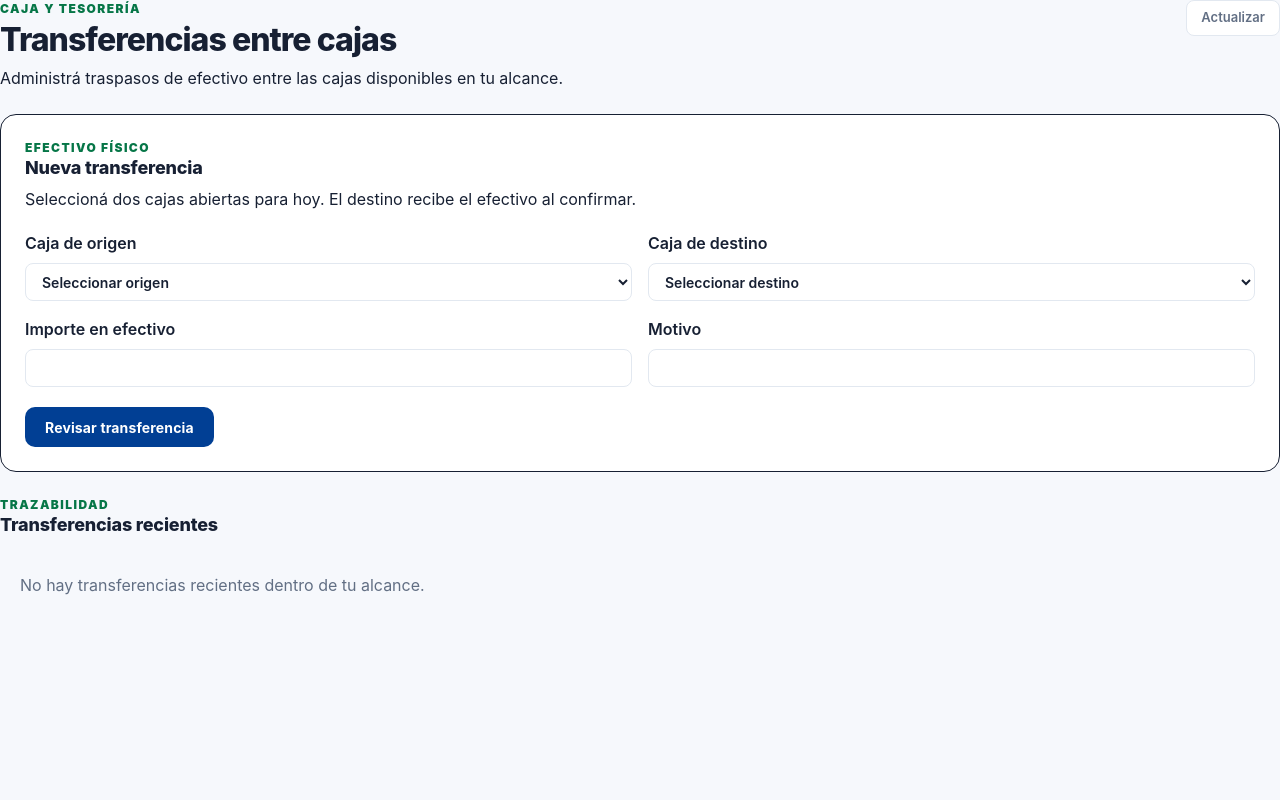
it: Estados y recuperación de transferencias › muestra el rechazo de API y conserva datos para corregirlos
Select "Posadas · cajera.posadas · Caja #11" in the dropdown with id "transferencia-origen" at (328, 282), box [25,263,632,301]
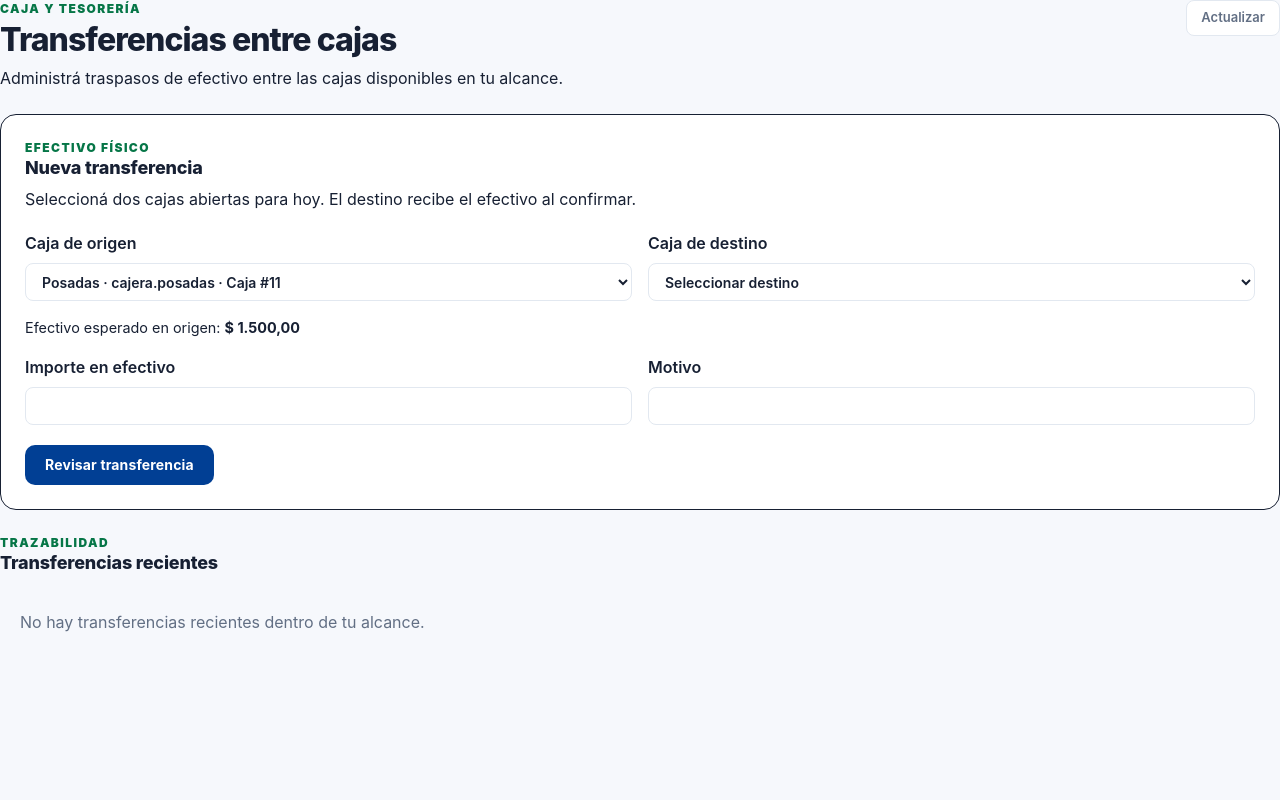
Select "Eldorado · cajero.eldorado · Caja #12" in the dropdown with id "transferencia-destino" at (952, 282), box [648,263,1255,301]
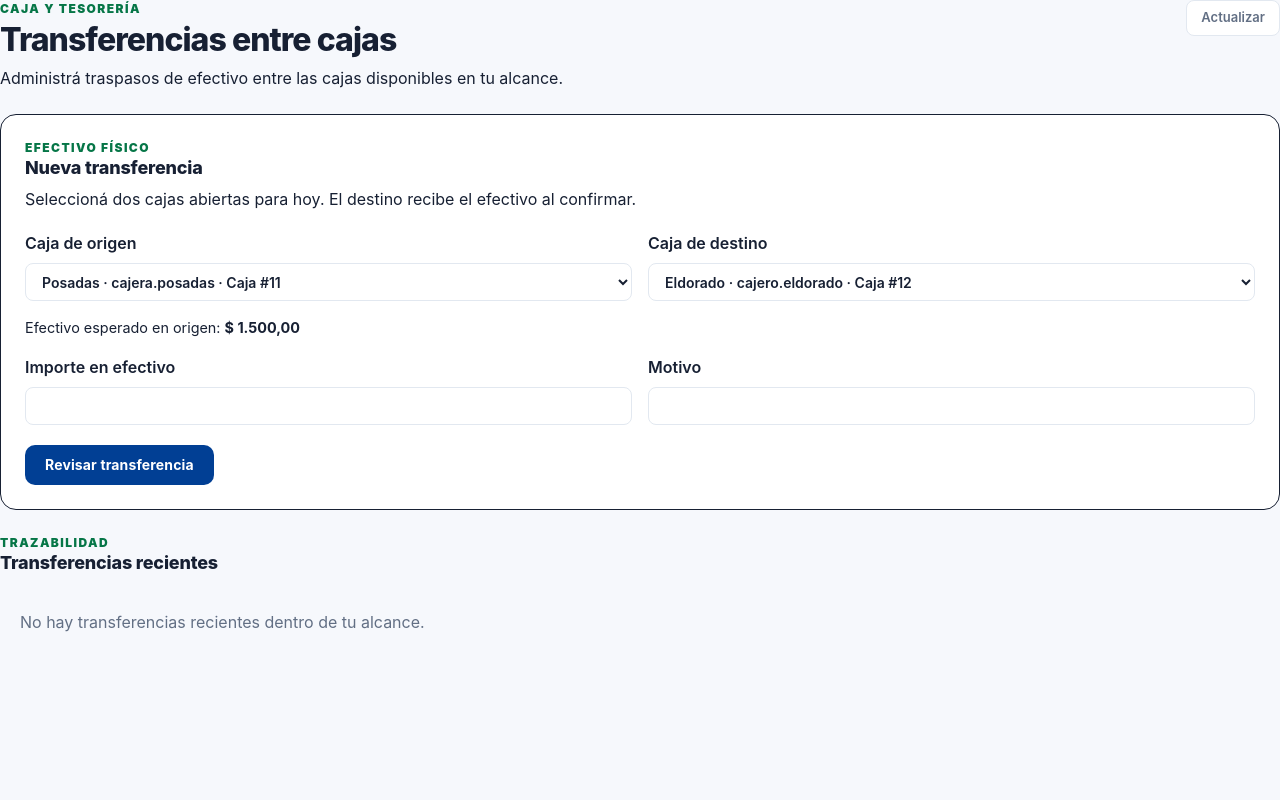
Type "250.50" into the number field with id "transferencia-importe".
click(328, 406); type("250.50")  # box [25,387,632,425]
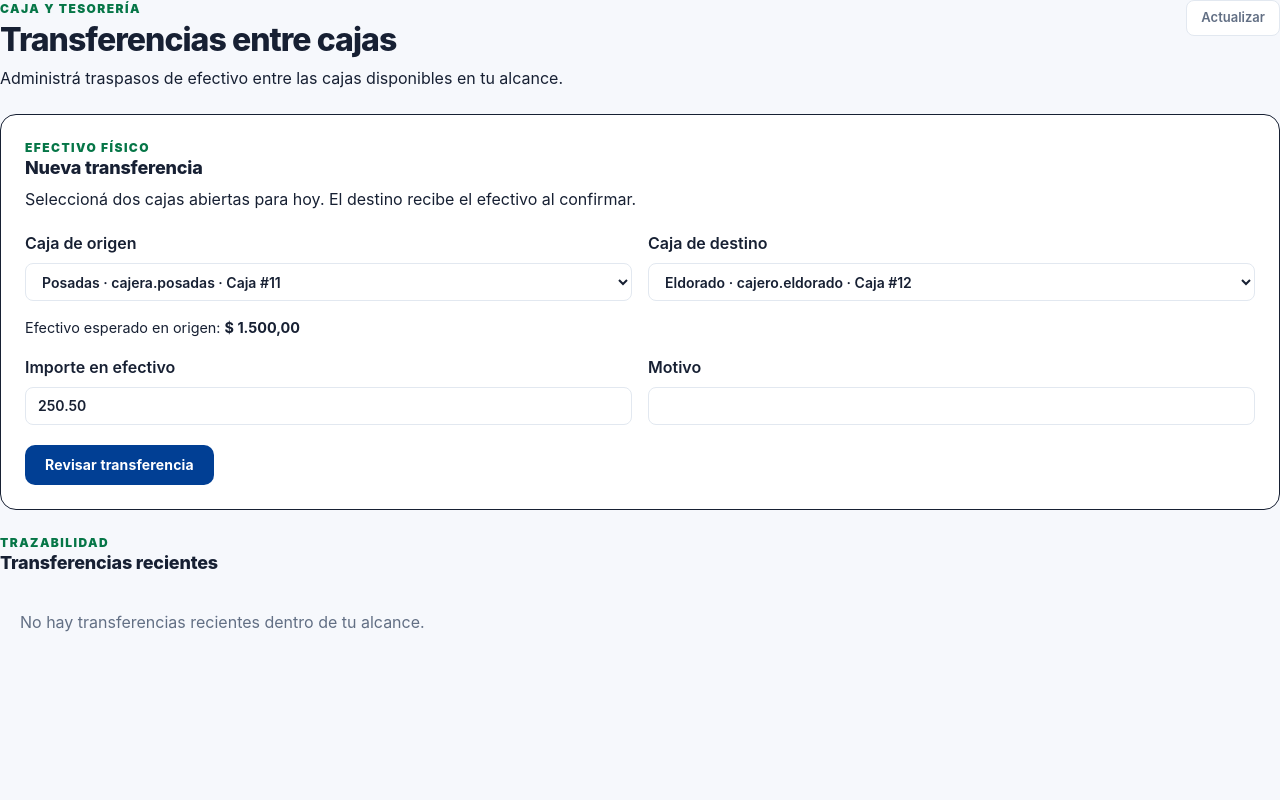
Type "Reposición de efectivo" into the field with id "transferencia-motivo".
click(952, 406); type("Reposición de efectivo")  # box [648,387,1255,425]
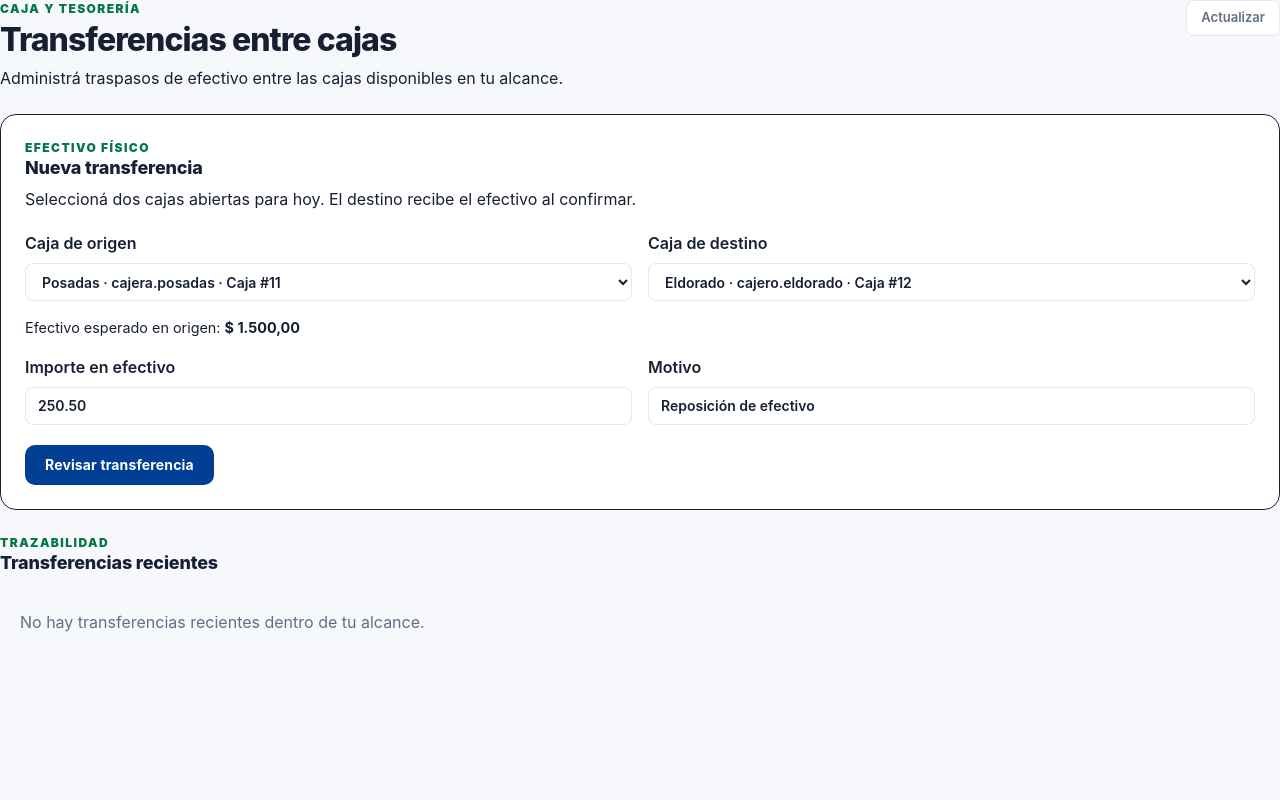
Submit the form, box [25,231,1255,485]
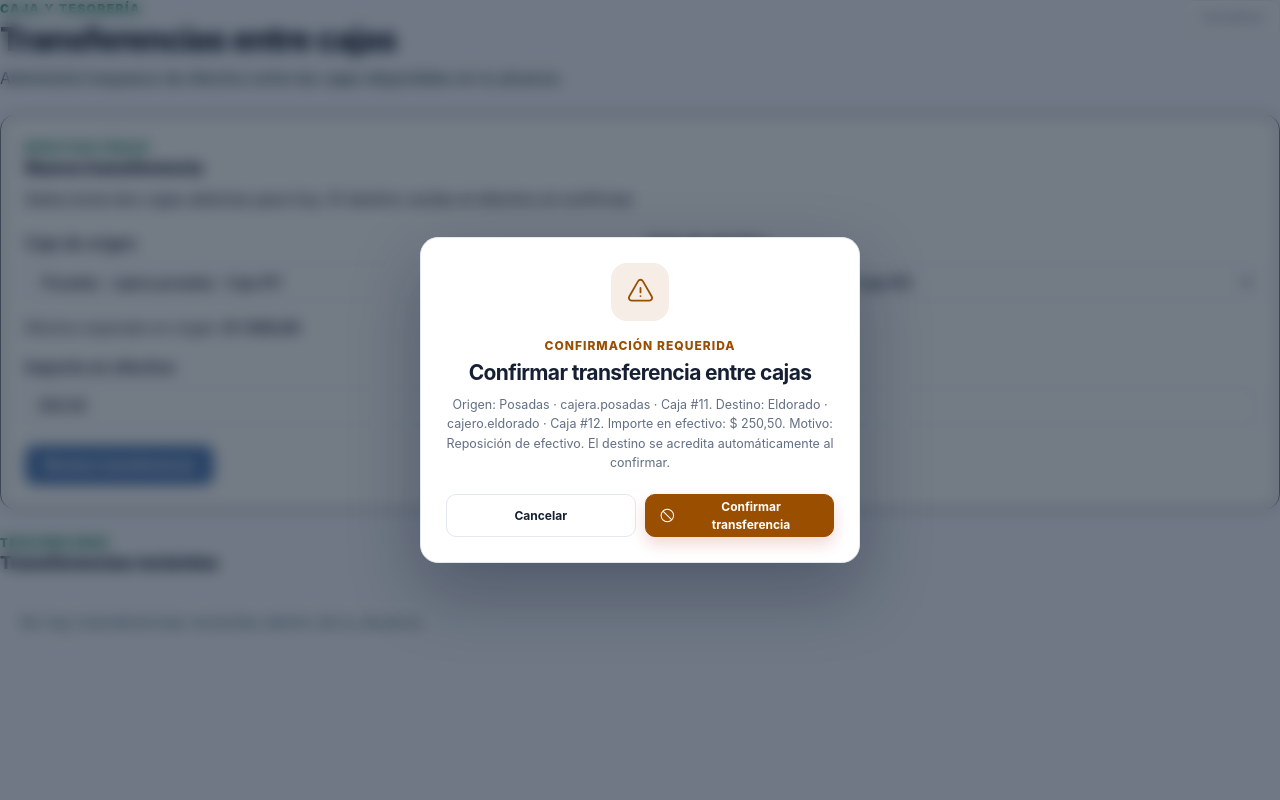
Click the button "Confirmar transferencia".
click(739, 516)  # box [644,494,834,537]
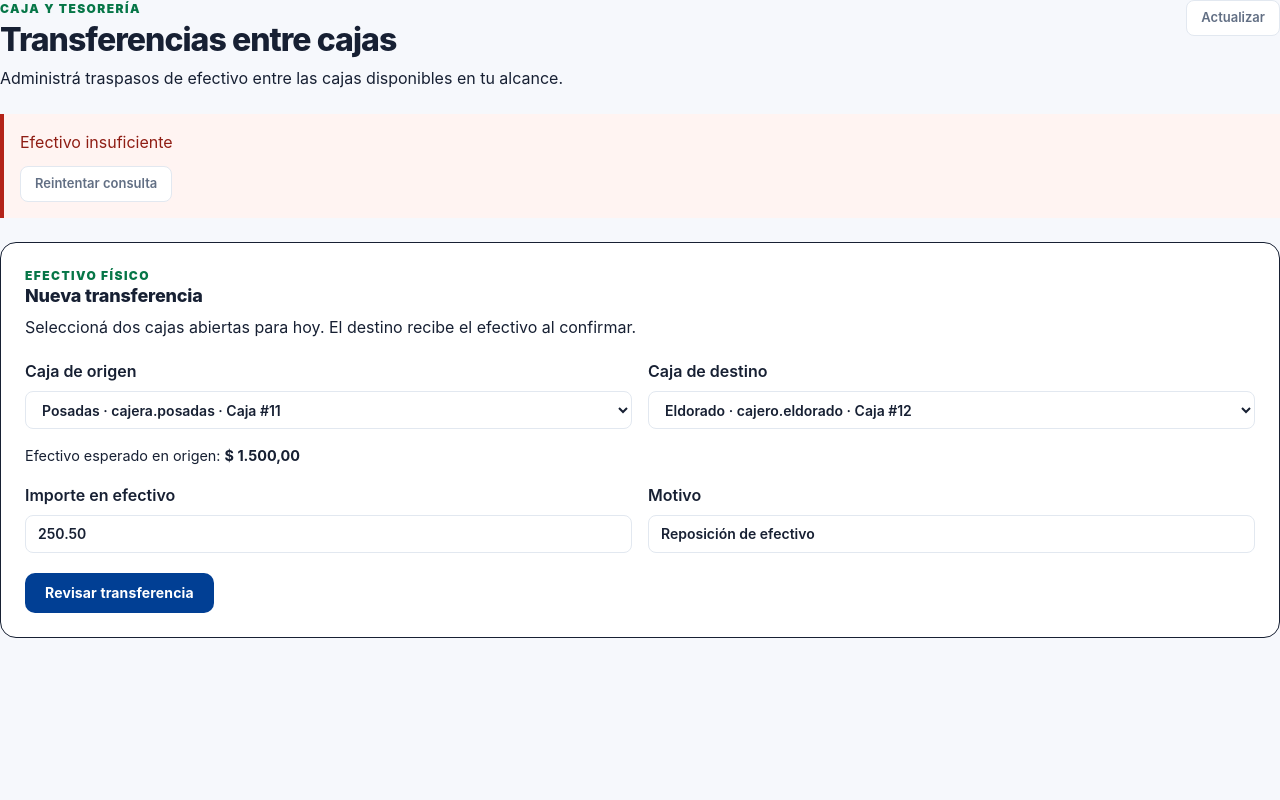
Now the message "Efectivo insuficiente Reintentar consulta" is shown, box [0,114,1279,218]
Now the dialog is gone
